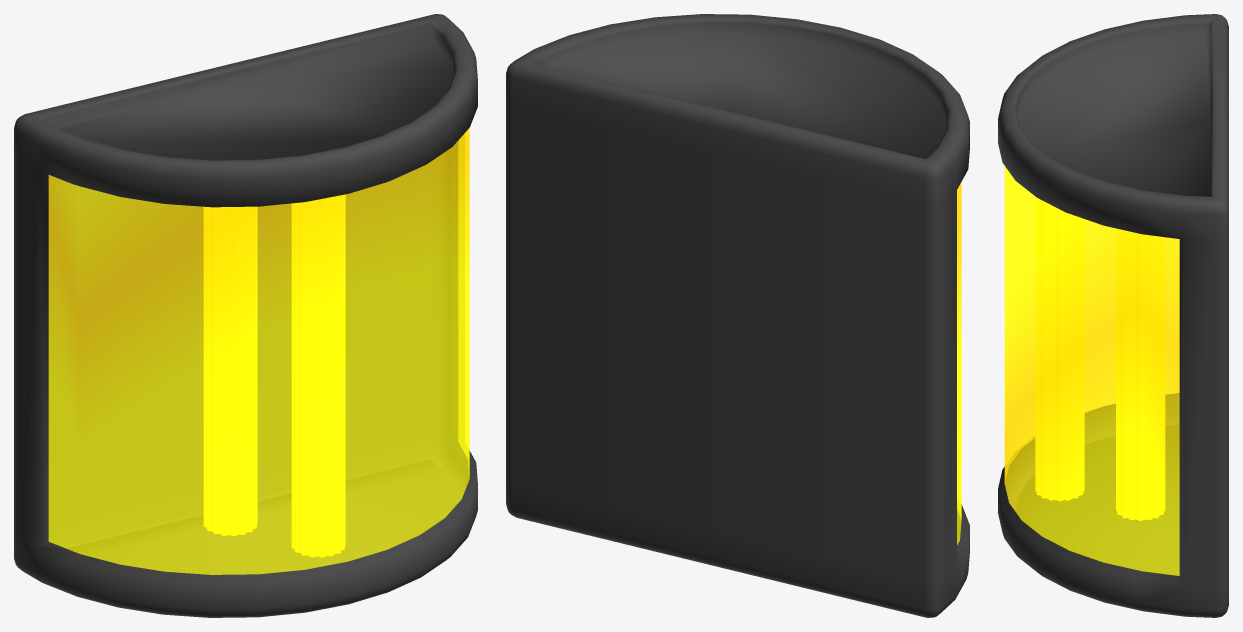
Rendered from furnace.glb.
3 renders of one model, left to right at view 1: azimuth 30°, elevation 25°; view 2: azimuth 150°, elevation 25°; view 3: azimuth 270°, elevation 25°, orthographic. The views are drawn at different scales.
Visible parts, largest first — view 1: Cylinder, Circle.002; view 2: Cylinder; view 3: Cylinder, Circle.002.
Boxes of the visible parts, x1,y1,x2,y2 form: Cylinder: (14, 14, 477, 617); Circle.002: (204, 195, 345, 557); Cylinder: (506, 14, 969, 617); Cylinder: (998, 14, 1228, 617); Circle.002: (1035, 197, 1164, 520).
Bounding box in the file's own units: 0.9945 × 0.9925 × 0.5.
